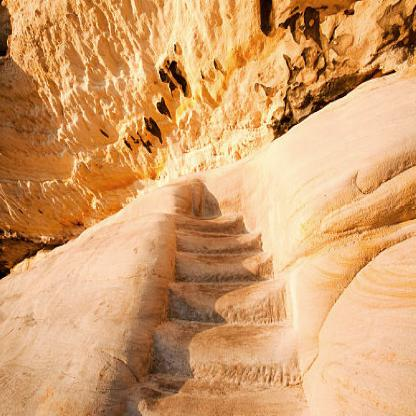Sedimentary_Sandstone: (0, 0, 255, 237)
